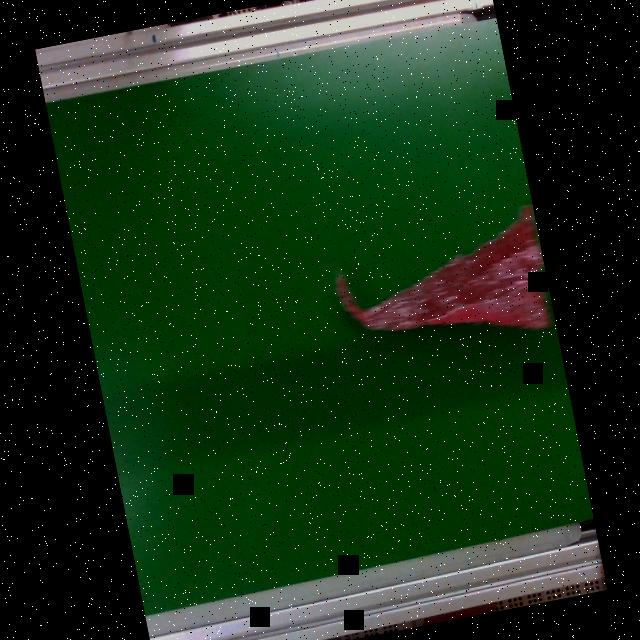scrap_plastic: (300, 204, 556, 378)
